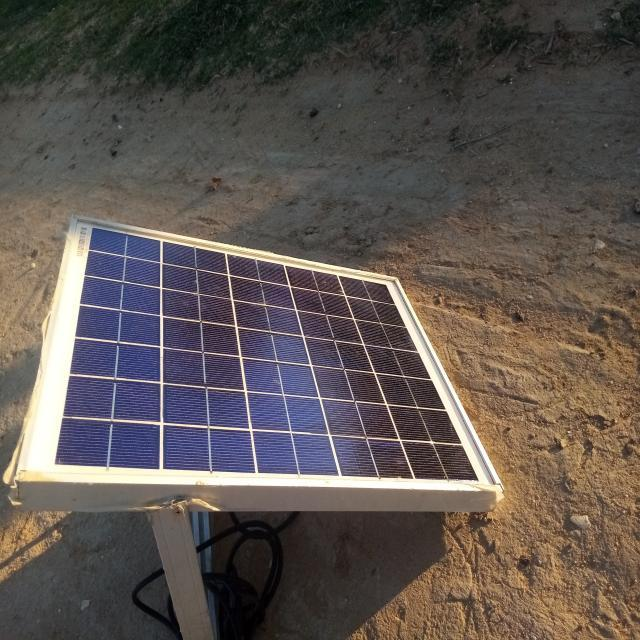no faulty: (18, 214, 499, 490)
